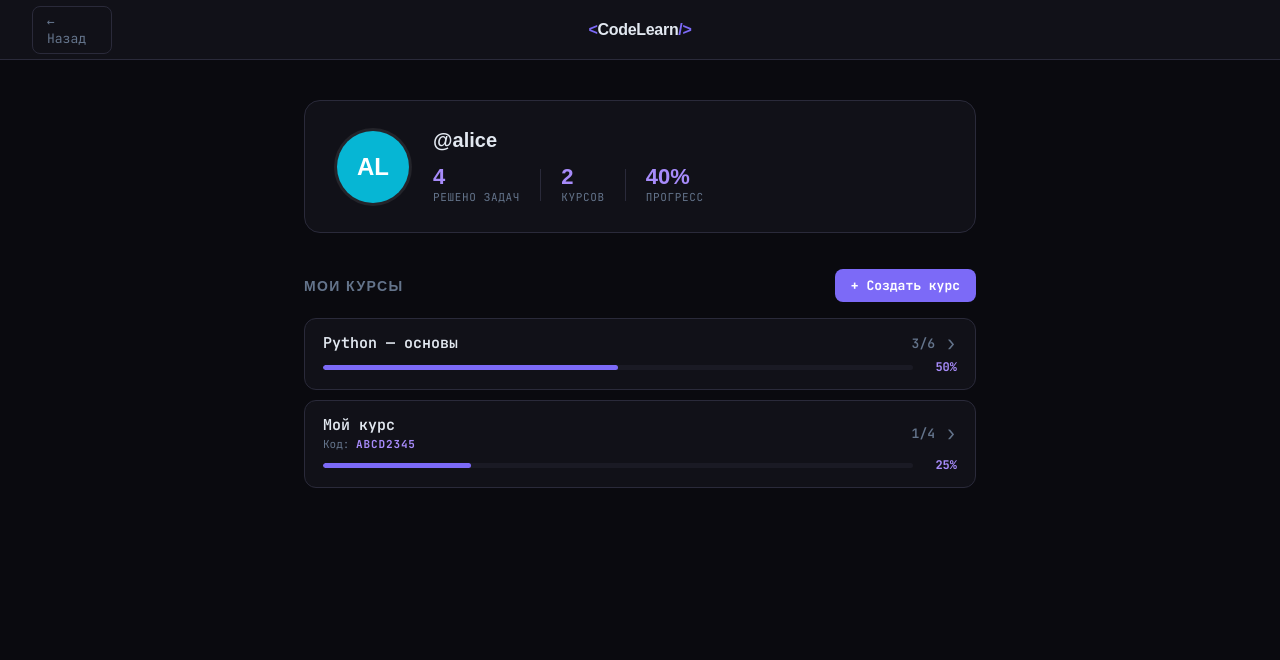
Scenario: создание курса › ошибка сервера показывается пользователю, введённое не теряется
The image size is (1280, 660).
Expected: the text "Python — основы" is shown, 323,333 -> 458,353
Click the button "+ Создать курс" at (905, 286), box 835,269 -> 976,302
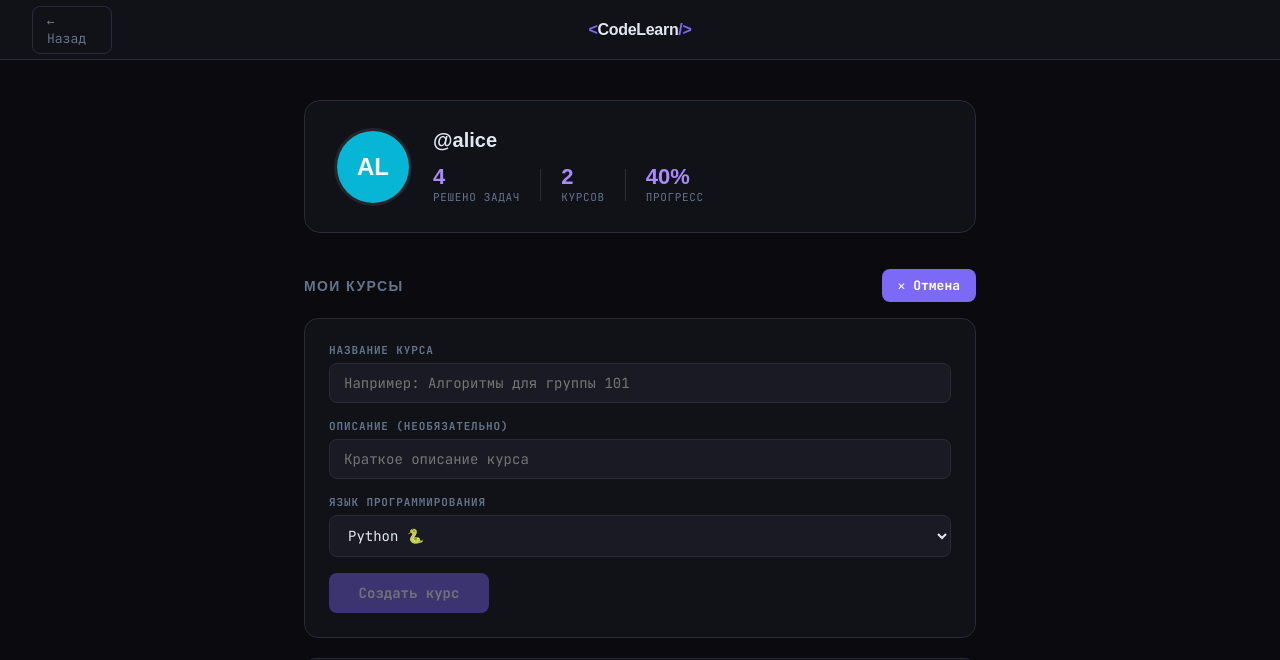
Type "Слишком длинное" into the field with placeholder "Например: Алгоритмы для группы 101" at (640, 383), box 329,363 -> 951,403
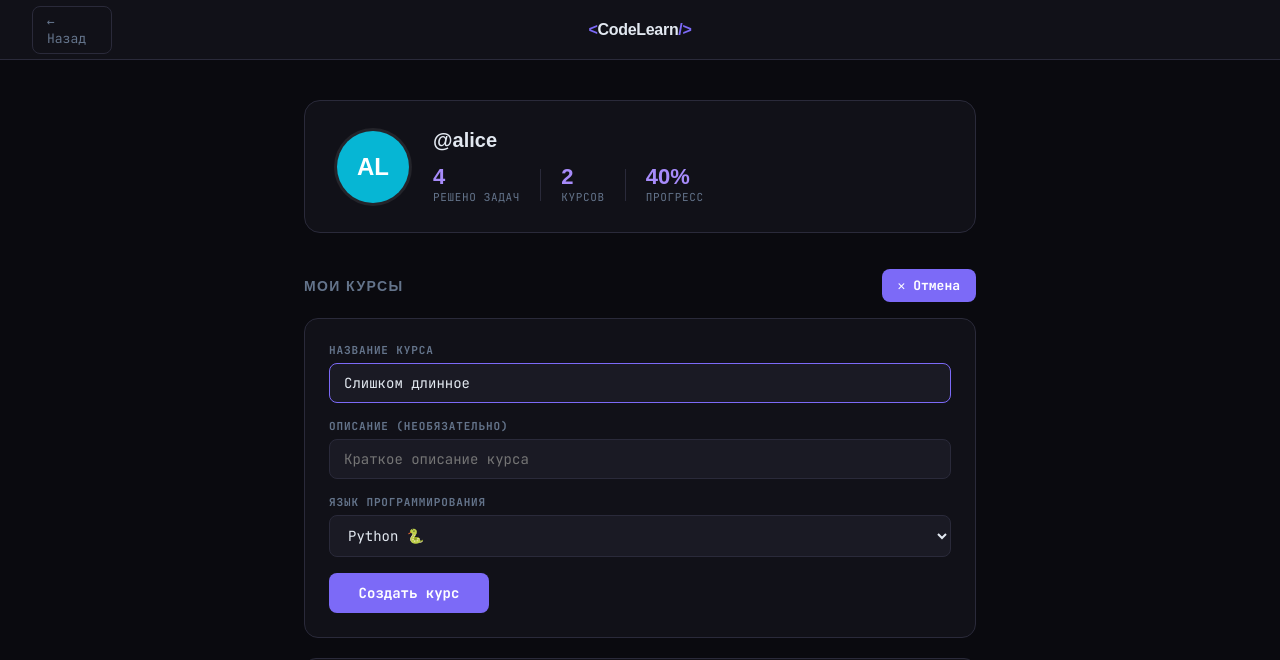
Click the button "Создать курс" at (409, 593), box 329,573 -> 489,613
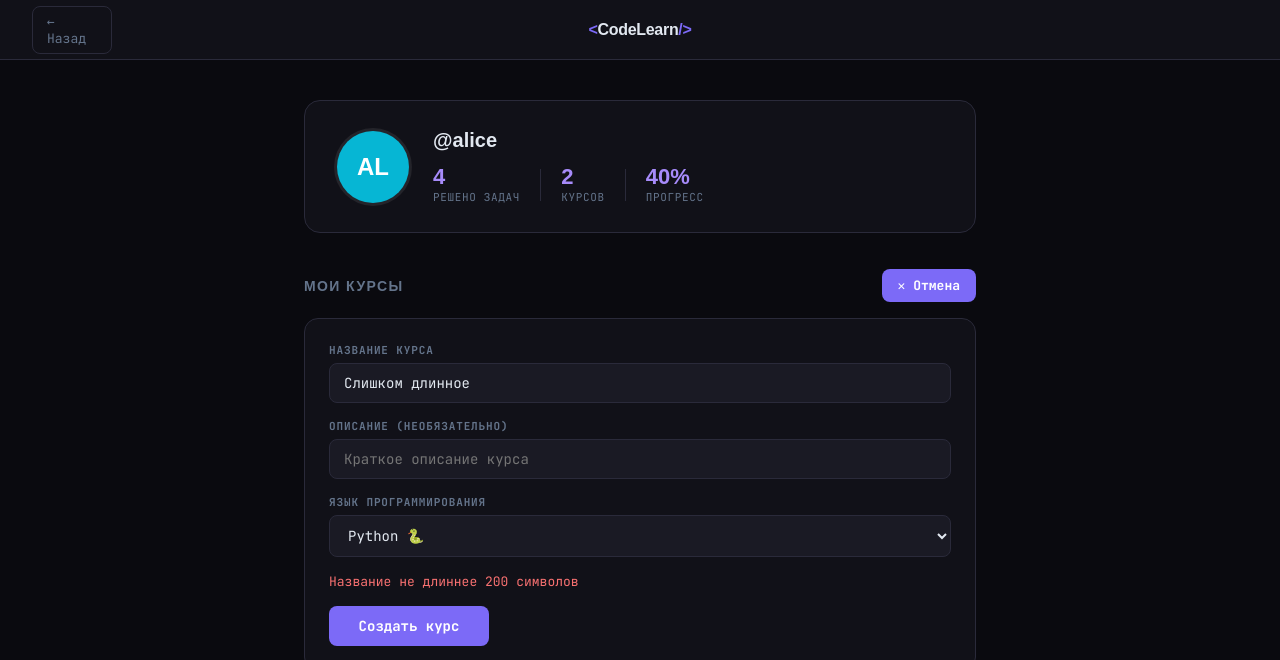
Result: the button "Создать курс" is enabled at 329,606 -> 489,646
Result: the message reads "Название не длиннее 200 символов" at 329,573 -> 579,590
